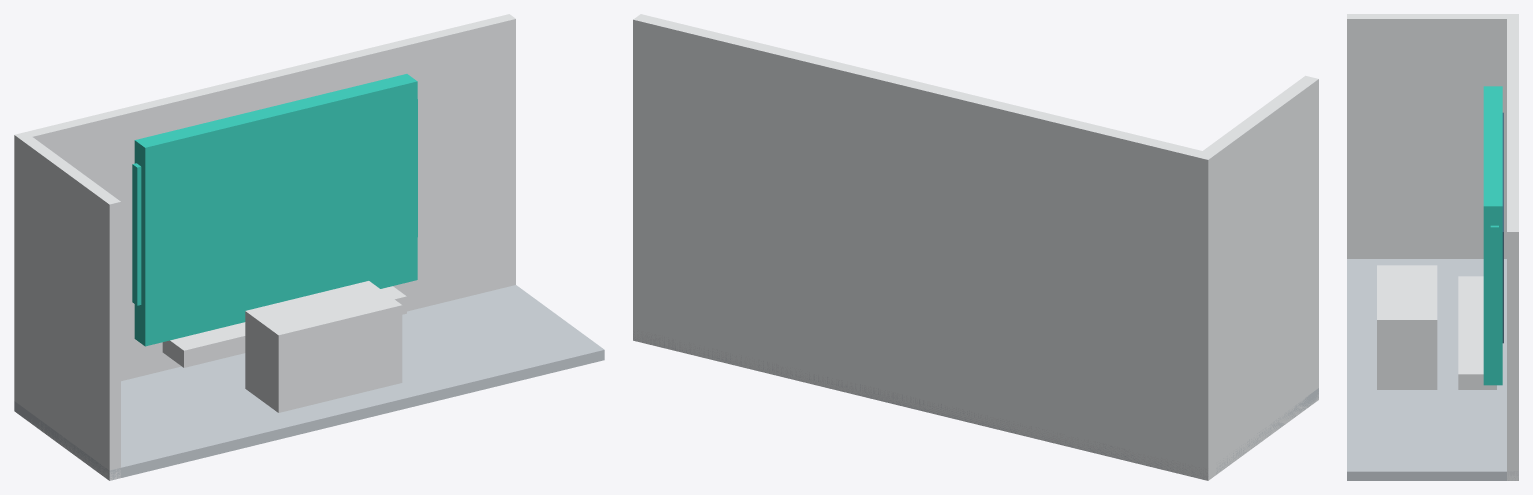
3 renders of one model, left to right at view 1: azimuth 30°, elevation 25°; view 2: azimuth 150°, elevation 25°; view 3: azimuth 270°, elevation 25°, orthographic. The views are drawn at different scales.
Parts seen in each view (by area): view 1: Exhibition Booth Concept; view 2: Exhibition Booth Concept; view 3: Exhibition Booth Concept.
Part boxes in pixels (x1,y1,x2,y2): Exhibition Booth Concept: (14,14,604,480); Exhibition Booth Concept: (633,14,1318,480); Exhibition Booth Concept: (1347,14,1518,480).
Bounding box in the file's own units: 6 × 3.2 × 2.
